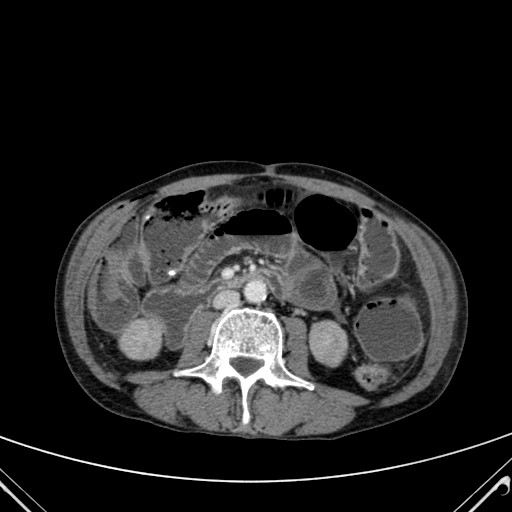clipe: (166, 268, 176, 276)
